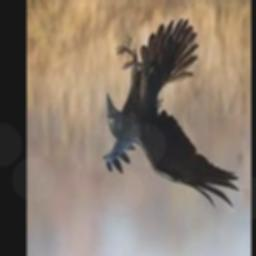Crow: (103, 18, 238, 210)
